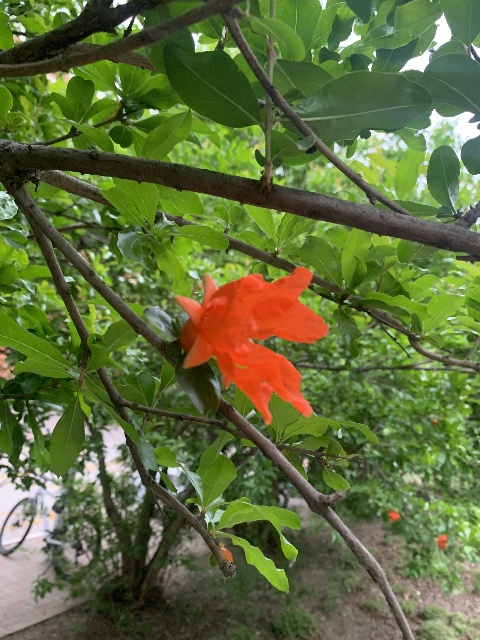bud: (219, 547, 232, 563)
flower: (175, 266, 329, 424), (436, 534, 447, 550), (388, 509, 400, 522)
